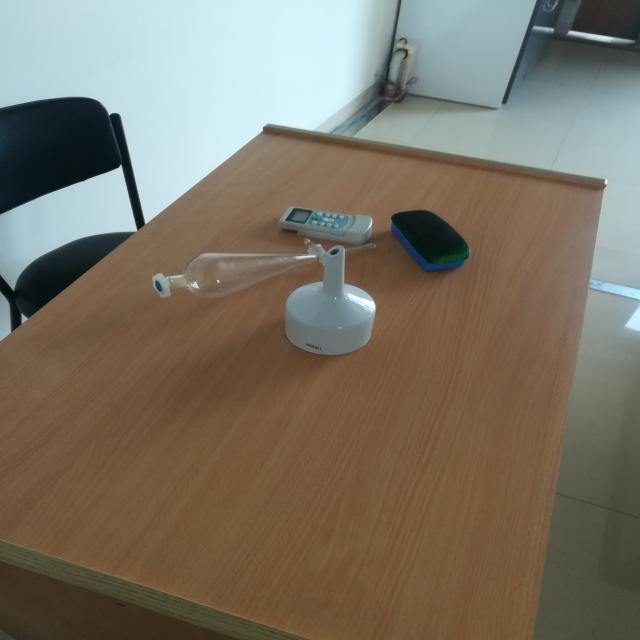Buchner_Funnel: (265, 240, 406, 392)
